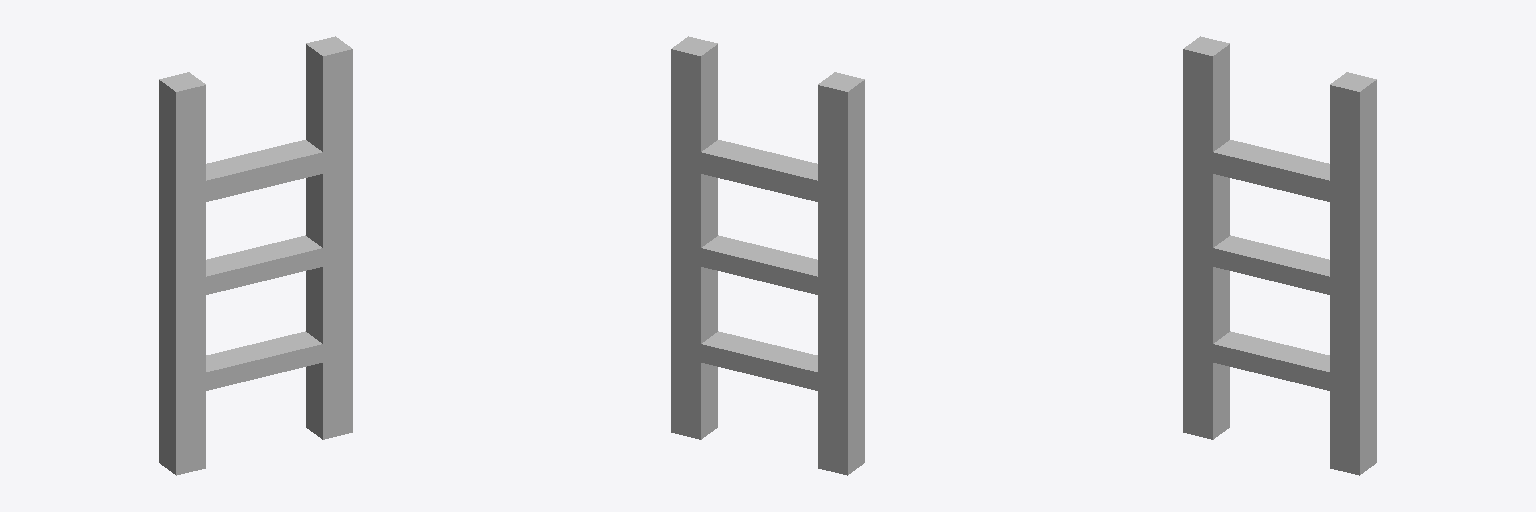
The model's file is ladder.obj.
3 renders of one model, left to right at view 1: azimuth 30°, elevation 25°; view 2: azimuth 150°, elevation 25°; view 3: azimuth 330°, elevation 25°, orthographic.
Parts seen in each view (by area): view 1: obj.ladder.000_Cube; view 2: obj.ladder.000_Cube; view 3: obj.ladder.000_Cube.
Boxes of the visible parts, x1,y1,x2,y2 form: obj.ladder.000_Cube: [159, 36, 352, 475]; obj.ladder.000_Cube: [671, 36, 864, 475]; obj.ladder.000_Cube: [1183, 36, 1376, 475].
Size of the model in its own units: 0.3175 by 0.6588 by 0.0541.